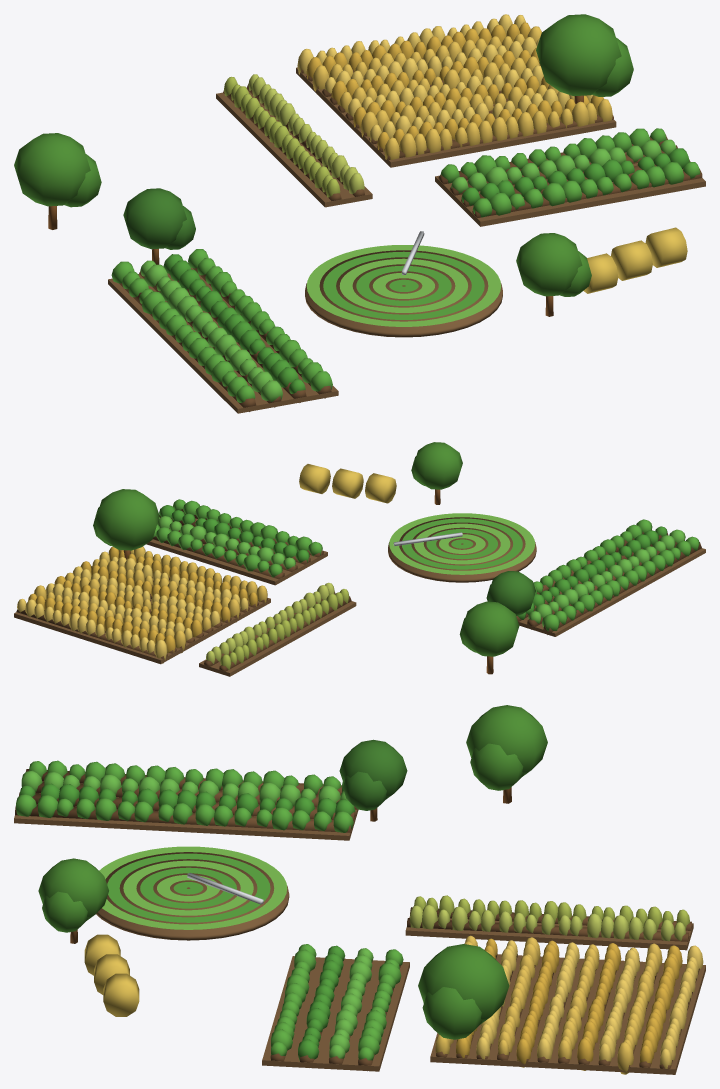
The model's file is improvement_farm_3_1.fbx.
The picture shows the model from 3 angles, top to bottom: view 1: azimuth 30°, elevation 25°; view 2: azimuth 150°, elevation 25°; view 3: azimuth 270°, elevation 25°; orthographic projection. The views are drawn at different scales.
Parts seen in each view (by area): view 1: improvement_farm_3_1_tilled.007_00, improvement_farm_3_1_leaf#4a8a30.007_17, improvement_farm_3_1_crop#5aa83e.005_02, improvement_farm_3_1_crop#e0bc52.005_12, improvement_farm_3_1_crop#d4aa3e.005_13, improvement_farm_3_1_crop#e8c860.004_14, improvement_farm_3_1_crop#68b448.004_04, improvement_farm_3_1_crop#4c9a36.005_03, improvement_farm_3_1_pivot#7cc050.001_06, improvement_farm_3_1_pivot#5aa83e.001_05, improvement_farm_3_1_hayroll.003_18, improvement_farm_3_1_leaf#3f7a2c.005_16 (+5 smaller); view 2: improvement_farm_3_1_tilled.007_00, improvement_farm_3_1_leaf#4a8a30.007_17, improvement_farm_3_1_crop#5aa83e.005_02, improvement_farm_3_1_crop#e8c860.004_14, improvement_farm_3_1_crop#d4aa3e.005_13, improvement_farm_3_1_crop#e0bc52.005_12, improvement_farm_3_1_crop#68b448.004_04, improvement_farm_3_1_crop#4c9a36.005_03, improvement_farm_3_1_pivot#7cc050.001_06, improvement_farm_3_1_pivot#5aa83e.001_05, improvement_farm_3_1_hayroll.003_18, improvement_farm_3_1_ridgegreens.005_01 (+5 smaller); view 3: improvement_farm_3_1_tilled.007_00, improvement_farm_3_1_leaf#4a8a30.007_17, improvement_farm_3_1_crop#5aa83e.005_02, improvement_farm_3_1_crop#e8c860.004_14, improvement_farm_3_1_crop#d4aa3e.005_13, improvement_farm_3_1_crop#e0bc52.005_12, improvement_farm_3_1_crop#4c9a36.005_03, improvement_farm_3_1_pivot#7cc050.001_06, improvement_farm_3_1_crop#68b448.004_04, improvement_farm_3_1_pivot#5aa83e.001_05, improvement_farm_3_1_crop#b8c45a.007_09, improvement_farm_3_1_leaf#3f7a2c.005_16 (+5 smaller).
Boxes of the visible parts, x1=… form: improvement_farm_3_1_tilled.007_00: x1=108, y1=67, x2=705, y2=413; improvement_farm_3_1_leaf#4a8a30.007_17: x1=14, y1=14, x2=633, y2=296; improvement_farm_3_1_crop#5aa83e.005_02: x1=111, y1=128, x2=700, y2=402; improvement_farm_3_1_crop#e0bc52.005_12: x1=312, y1=26, x2=612, y2=159; improvement_farm_3_1_crop#d4aa3e.005_13: x1=306, y1=22, x2=603, y2=151; improvement_farm_3_1_crop#e8c860.004_14: x1=297, y1=14, x2=592, y2=141; improvement_farm_3_1_crop#68b448.004_04: x1=140, y1=139, x2=676, y2=401; improvement_farm_3_1_crop#4c9a36.005_03: x1=163, y1=148, x2=689, y2=393; improvement_farm_3_1_pivot#7cc050.001_06: x1=306, y1=245, x2=501, y2=326; improvement_farm_3_1_pivot#5aa83e.001_05: x1=323, y1=251, x2=484, y2=319; improvement_farm_3_1_hayroll.003_18: x1=583, y1=227, x2=687, y2=293; improvement_farm_3_1_leaf#3f7a2c.005_16: x1=123, y1=188, x2=195, y2=249; improvement_farm_3_1_tilled.007_00: x1=14, y1=517, x2=705, y2=676; improvement_farm_3_1_leaf#4a8a30.007_17: x1=93, y1=442, x2=519, y2=656; improvement_farm_3_1_crop#5aa83e.005_02: x1=153, y1=499, x2=699, y2=630; improvement_farm_3_1_crop#e8c860.004_14: x1=17, y1=551, x2=248, y2=663; improvement_farm_3_1_crop#d4aa3e.005_13: x1=28, y1=547, x2=257, y2=652; improvement_farm_3_1_crop#e0bc52.005_12: x1=34, y1=546, x2=267, y2=653; improvement_farm_3_1_crop#68b448.004_04: x1=157, y1=516, x2=685, y2=623; improvement_farm_3_1_crop#4c9a36.005_03: x1=159, y1=505, x2=667, y2=619; improvement_farm_3_1_pivot#7cc050.001_06: x1=389, y1=513, x2=535, y2=574; improvement_farm_3_1_pivot#5aa83e.001_05: x1=402, y1=518, x2=522, y2=569; improvement_farm_3_1_hayroll.003_18: x1=299, y1=464, x2=396, y2=503; improvement_farm_3_1_ridgegreens.005_01: x1=153, y1=506, x2=701, y2=634; improvement_farm_3_1_tilled.007_00: x1=14, y1=781, x2=705, y2=1074; improvement_farm_3_1_leaf#4a8a30.007_17: x1=38, y1=705, x2=547, y2=1039; improvement_farm_3_1_crop#5aa83e.005_02: x1=16, y1=760, x2=403, y2=1060; improvement_farm_3_1_crop#e8c860.004_14: x1=476, y1=940, x2=703, y2=1068; improvement_farm_3_1_crop#d4aa3e.005_13: x1=456, y1=938, x2=682, y2=1070; improvement_farm_3_1_crop#e0bc52.005_12: x1=435, y1=935, x2=662, y2=1074; improvement_farm_3_1_crop#4c9a36.005_03: x1=20, y1=783, x2=355, y2=1060; improvement_farm_3_1_pivot#7cc050.001_06: x1=99, y1=846, x2=287, y2=929; improvement_farm_3_1_crop#68b448.004_04: x1=21, y1=770, x2=373, y2=1058; improvement_farm_3_1_pivot#5aa83e.001_05: x1=107, y1=853, x2=270, y2=922; improvement_farm_3_1_crop#b8c45a.007_09: x1=410, y1=905, x2=685, y2=941; improvement_farm_3_1_leaf#3f7a2c.005_16: x1=339, y1=739, x2=407, y2=810.
Size of the model in its own units: 196 by 33.14 by 192.
